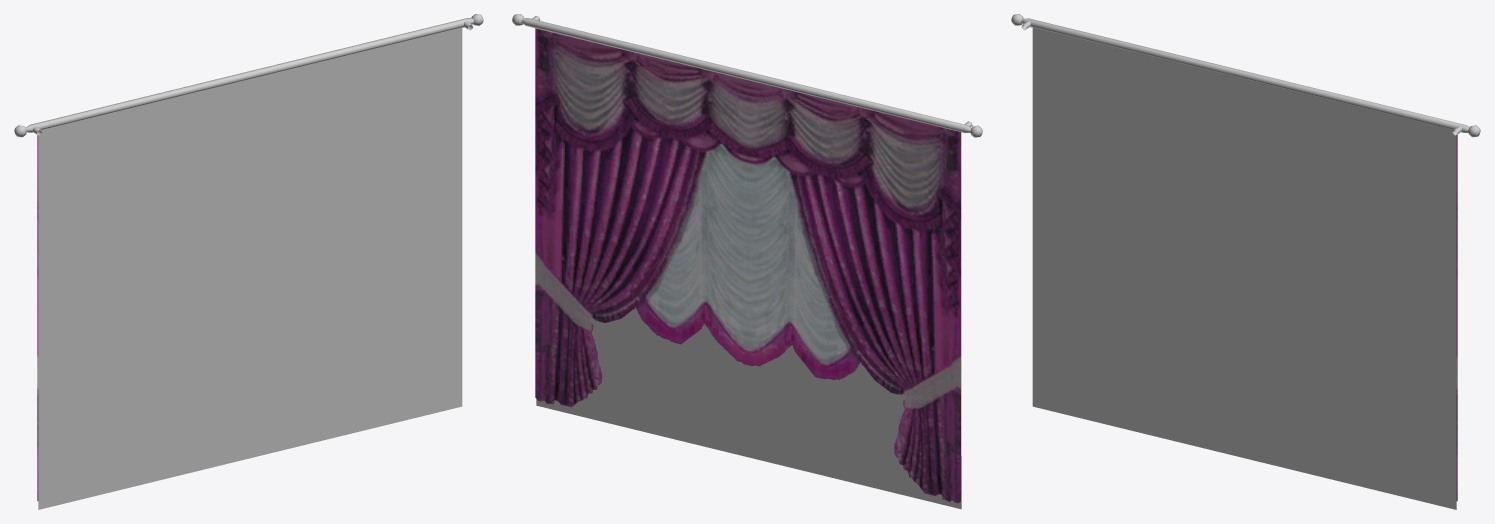
Rendered from furni_0201232_02.FBX.
3 views of the same model, side by side, from view 1: azimuth 30°, elevation 25°; view 2: azimuth 150°, elevation 25°; view 3: azimuth 330°, elevation 25° (orthographic).
Visible parts, largest first — view 1: furni_0201232_02; view 2: furni_0201232_02; view 3: furni_0201232_02.
Boxes of the visible parts, box(x1,y1,x2,y2) form: furni_0201232_02: box(14, 14, 483, 509); furni_0201232_02: box(512, 14, 982, 509); furni_0201232_02: box(1011, 14, 1480, 509).
Size of the model in its own units: 353 by 279 by 12.24.
